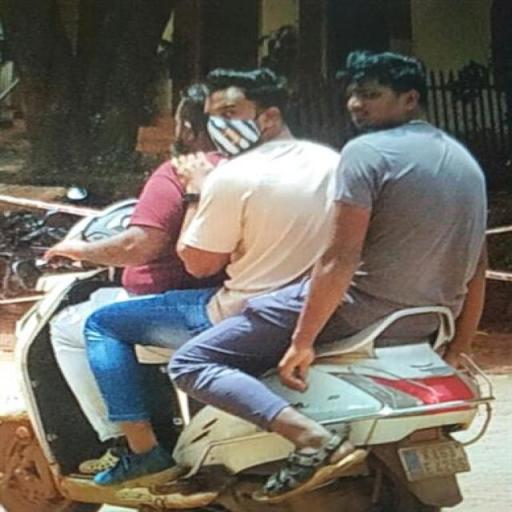tripple riding: (18, 46, 508, 344)
